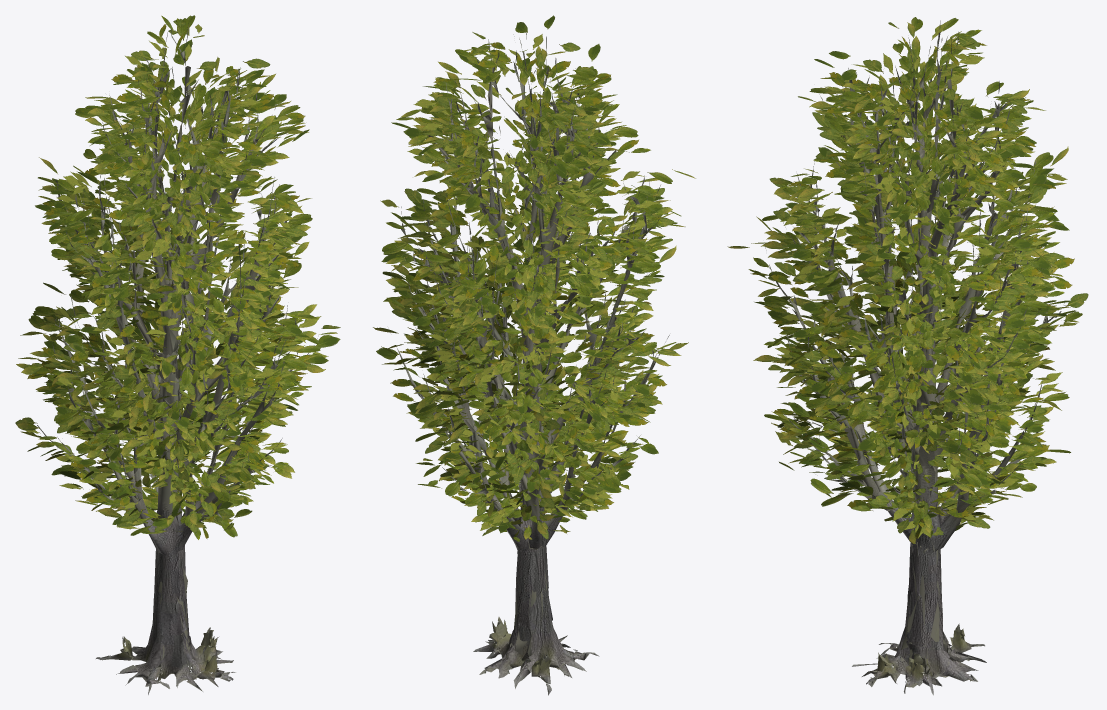
File: tree_poplar.glb
The picture shows the model from 3 angles, left to right: view 1: azimuth 30°, elevation 25°; view 2: azimuth 150°, elevation 25°; view 3: azimuth 270°, elevation 25°; orthographic projection. The views are drawn at different scales.
Visible parts, largest first — view 1: tree_poplar; view 2: tree_poplar; view 3: tree_poplar.
Boxes of the visible parts, left/top/right/bottom form: tree_poplar: left=15, top=15, right=340, bottom=694; tree_poplar: left=373, top=15, right=695, bottom=695; tree_poplar: left=727, top=17, right=1088, bottom=695.
Size of the model in its own units: 3.98 by 8.48 by 4.3.
Materials: 2 (2 with a texture image).
